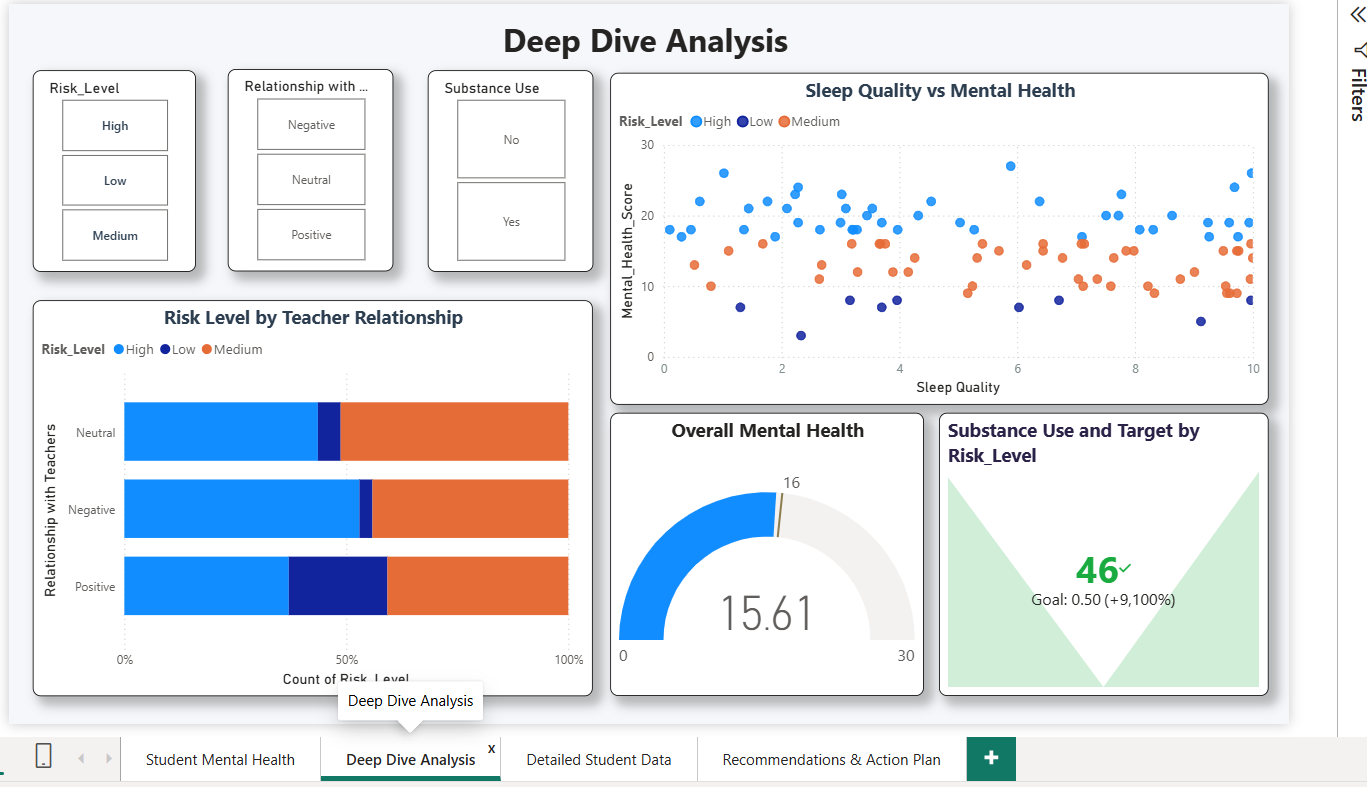

The page's visual inventory and layout, read from the dashboard file:
{"tool":"powerbi","page":{"name":"Deep Dive Analysis","canvas":[1280,720],"ordinal":1},"visuals":[{"type":"textbox","box":[488.8,8.8,302.5,56.2],"z":0},{"type":"slicer","fields":{"Values":["clean_data.Risk_Level"]},"box":[24.1,66.4,162.9,201.5],"z":1000},{"type":"slicer","fields":{"Values":["clean_data.Relationship with Teachers"]},"box":[218.4,65.1,165.3,202.7],"z":2000},{"type":"slicer","fields":{"Values":["clean_data.Substance Use"]},"box":[418.6,66.4,165.3,201.5],"z":3000},{"type":"scatterChart","title":"Sleep Quality vs Mental Health","fields":{"X":["clean_data.Sleep Quality"],"Y":["clean_data.Mental_Health_Score"],"Series":["clean_data.Risk_Level"]},"box":[600.8,68.8,658.7,331.8],"z":4000},{"type":"hundredPercentStackedBarChart","title":"Risk Level by Teacher Relationship","fields":{"Y":["CountNonNull(clean_data.Risk_Level)"],"Category":["clean_data.Relationship with Teachers"],"Series":["clean_data.Risk_Level"]},"box":[24.1,296.8,559.8,395.7],"z":5000},{"type":"gauge","title":"Overall Mental Health","fields":{"Y":["Avg(clean_data.Mental_Health_Score)"],"MinValue":["clean_data.Gauge_Min"],"MaxValue":["clean_data.Gauge_Max"],"TargetValue":["clean_data.Gauge_Target"]},"box":[600.8,409,313.7,283.5],"z":6000},{"type":"kpi","title":"Substance Use and Target by Risk_Level","fields":{"Indicator":["CountNonNull(clean_data.Substance Use)"],"TrendLine":["clean_data.Risk_Level"],"Goal":["clean_data.Target"]},"box":[930.2,409,329.4,283.5],"z":7000}]}

Visuals, with their boxes on the page's 1280x720 design canvas (x1, y1, x2, y2). These are canvas units, not pixel positions in the 1367x787 screenshot, which may show the page scaled, cropped or inside an application window:
textbox: 489 9 791 65
slicer - clean_data.Risk_Level: 24 66 187 268
slicer - clean_data.Relationship with Teachers: 218 65 384 268
slicer - clean_data.Substance Use: 419 66 584 268
"Sleep Quality vs Mental Health" scatterChart: 601 69 1260 401
"Risk Level by Teacher Relationship" hundredPercentStackedBarChart: 24 297 584 692
"Overall Mental Health" gauge: 601 409 914 692
"Substance Use and Target by Risk_Level" kpi: 930 409 1260 692
